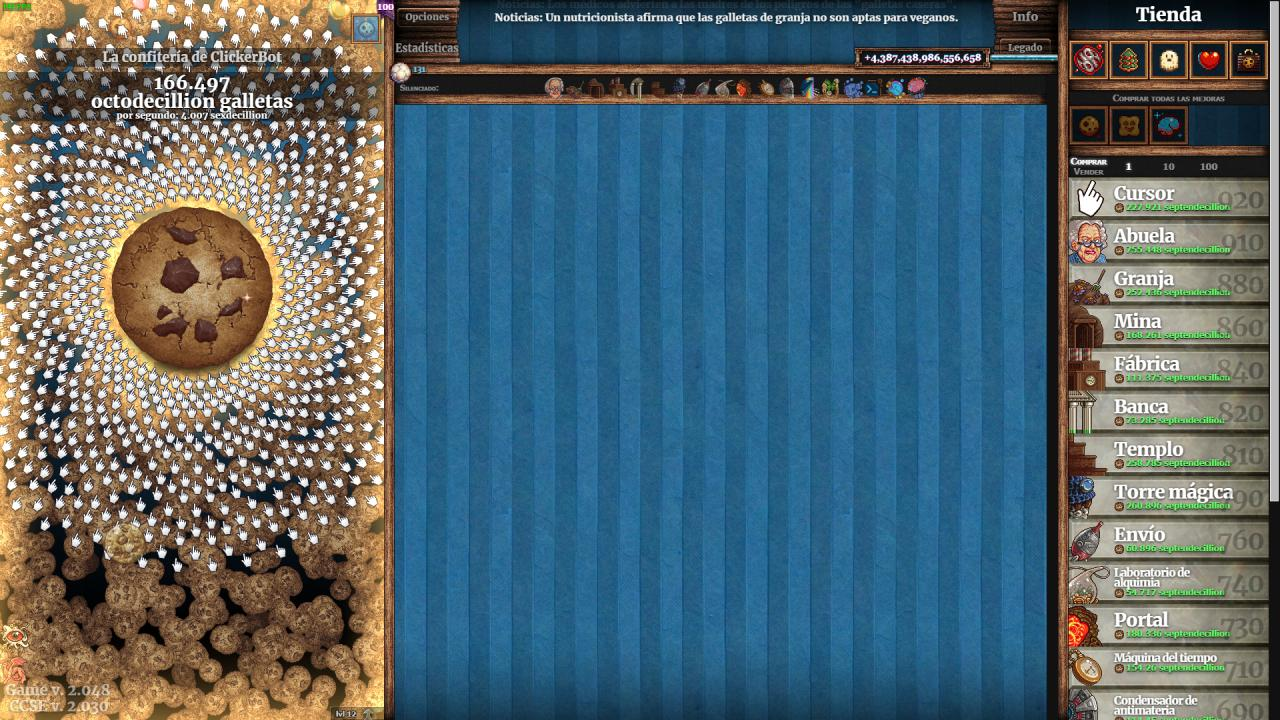GoldenCookie: (104, 523, 146, 565)
